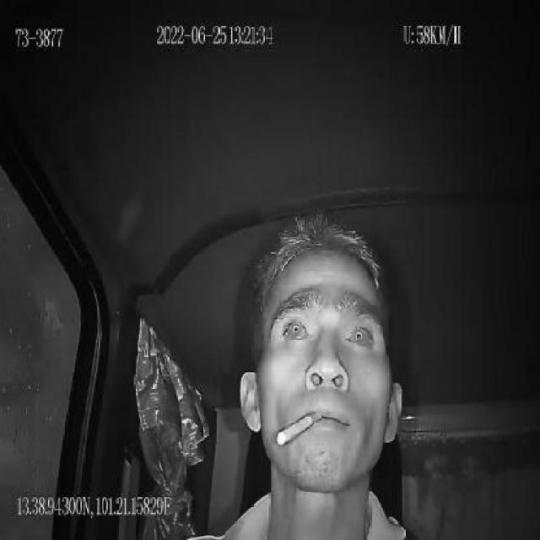smoking: (275, 411, 322, 445)
